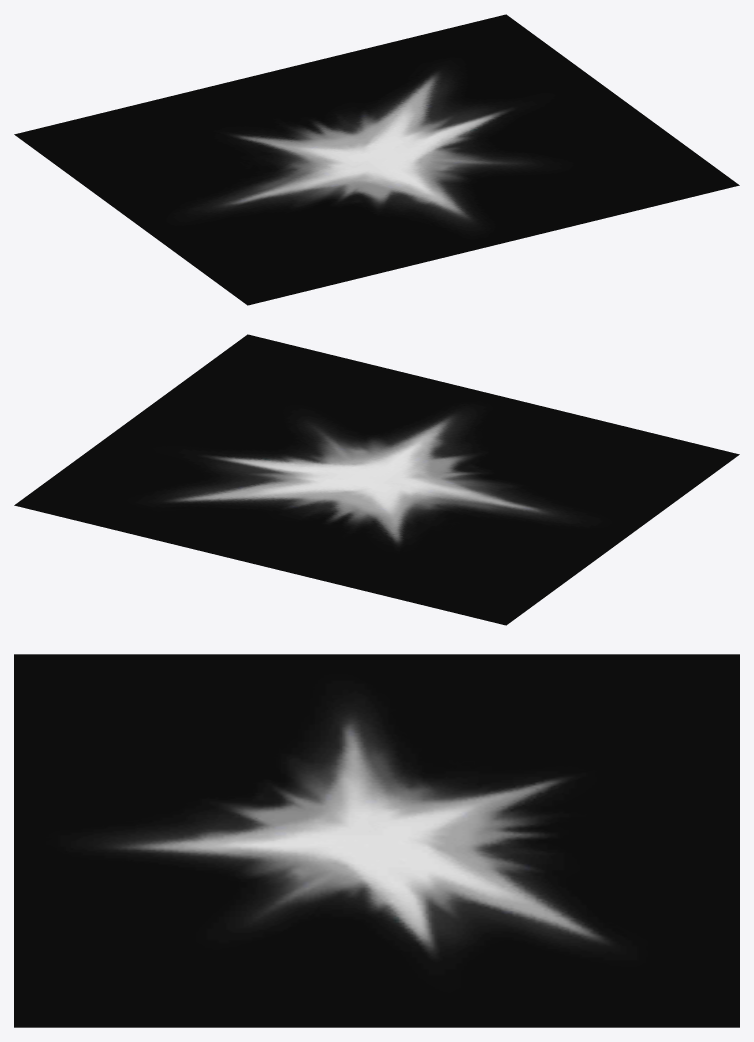
The model's file is 0108_Mianpian_M.glb.
3 renders of one model, top to bottom at view 1: azimuth 30°, elevation 25°; view 2: azimuth 150°, elevation 25°; view 3: azimuth 270°, elevation 25°, orthographic. The views are drawn at different scales.
Size of the model in its own units: 2.2 by 0 by 1.81.
1 material, 1 textured.
